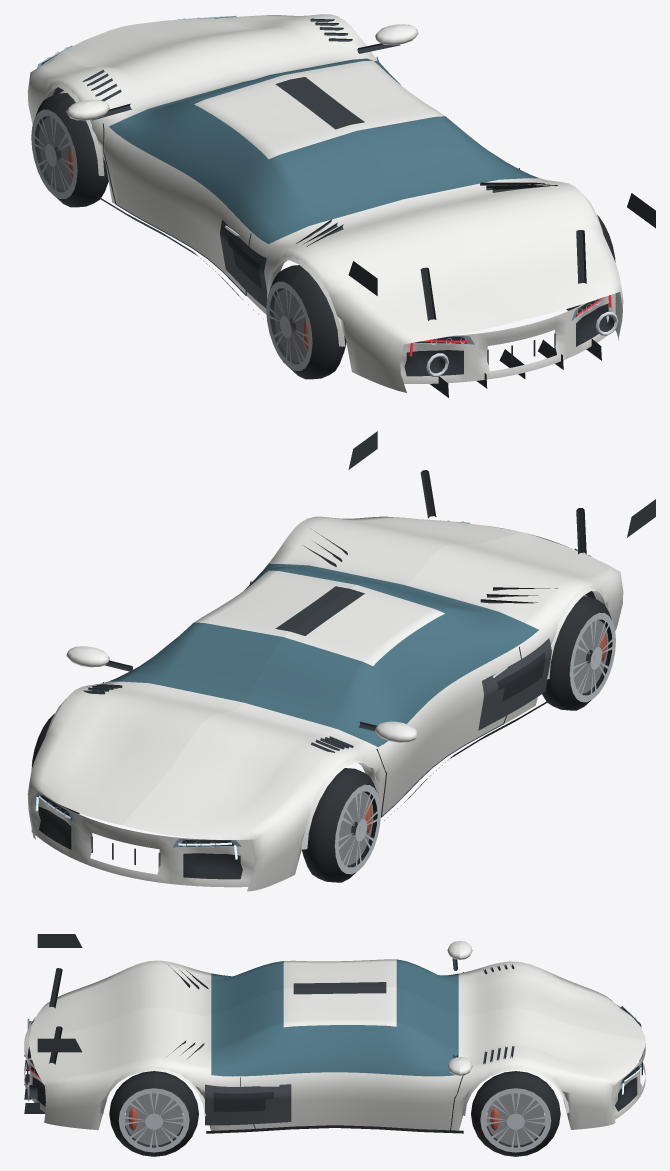
Rendered from titan_v12_low.glb.
3 views of the same model, one above another, from view 1: azimuth 30°, elevation 25°; view 2: azimuth 150°, elevation 25°; view 3: azimuth 270°, elevation 25° (orthographic). The views are drawn at different scales.
Visible parts, largest first — view 1: Body, Wheel_2, Wheel_0; view 2: Body, Wheel_0, Wheel_2; view 3: Body, Wheel_1, Wheel_3.
Boxes of the visible parts, x1,y1,x2,y2 form: Body: (27,14,655,397); Wheel_2: (266,265,346,379); Wheel_0: (31,93,108,207); Body: (27,431,655,891); Wheel_0: (301,768,380,882); Wheel_2: (542,596,615,710); Body: (24,934,645,1133); Wheel_1: (471,1071,560,1156); Wheel_3: (109,1071,198,1156).
Size of the model in its own units: 2.56 by 1.07 by 5.29.
